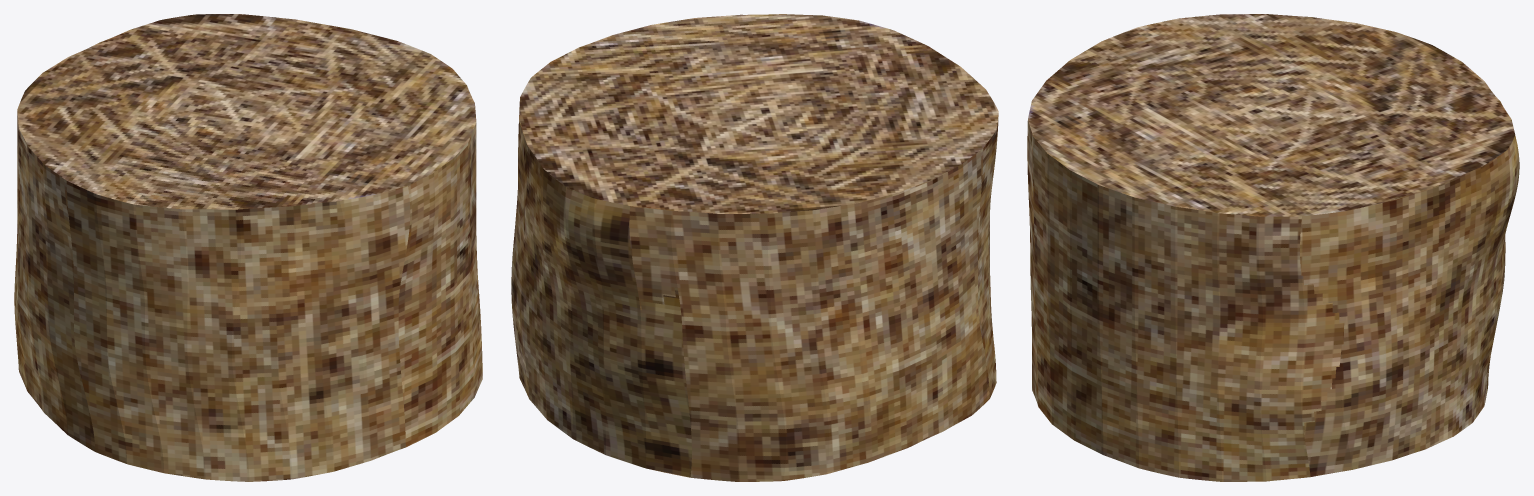
The model's file is HayBaleCircle.fbx.
3 views of the same model, side by side, from view 1: azimuth 30°, elevation 25°; view 2: azimuth 150°, elevation 25°; view 3: azimuth 270°, elevation 25° (orthographic). The views are drawn at different scales.
Parts seen in each view (by area): view 1: Cylinder; view 2: Cylinder; view 3: Cylinder.
Part boxes in pixels (x1=…): Cylinder: x1=14, y1=14, x2=482, y2=481; Cylinder: x1=511, y1=14, x2=998, y2=481; Cylinder: x1=1027, y1=14, x2=1519, y2=481.
Bounding box in the file's own units: 1033 × 651 × 1046.
1 material, 1 textured.
